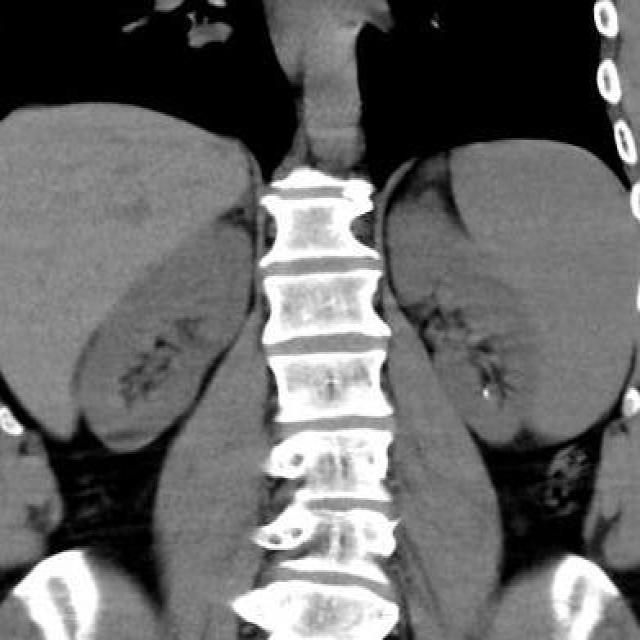Tas_Var: (480, 385, 492, 401)
